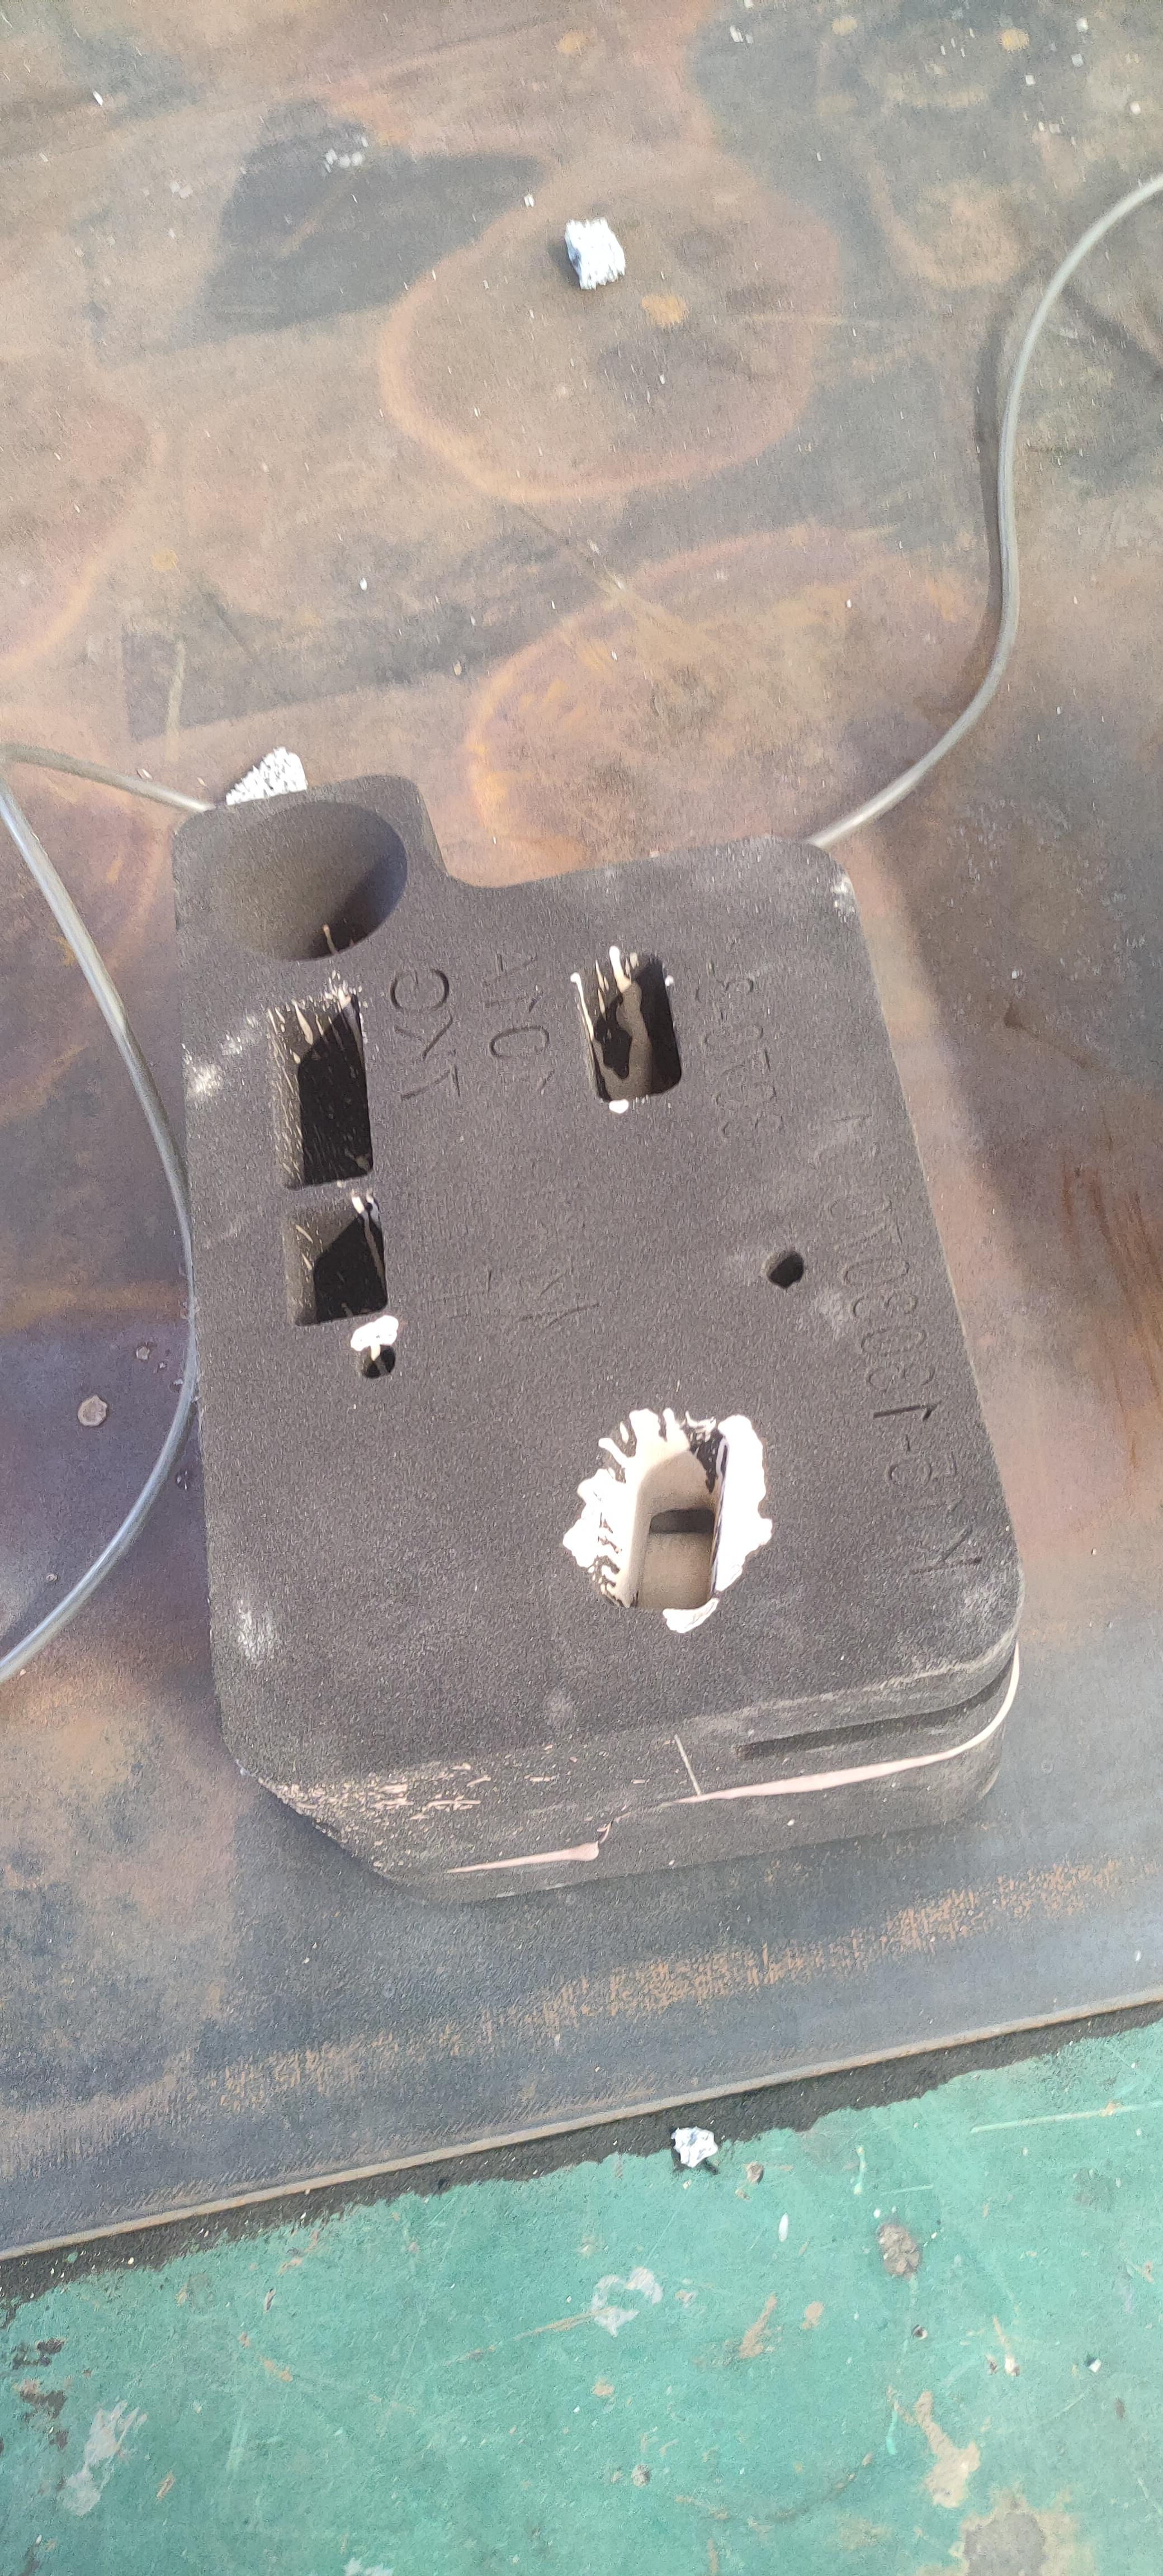pouring hole: (214, 798, 407, 964)
